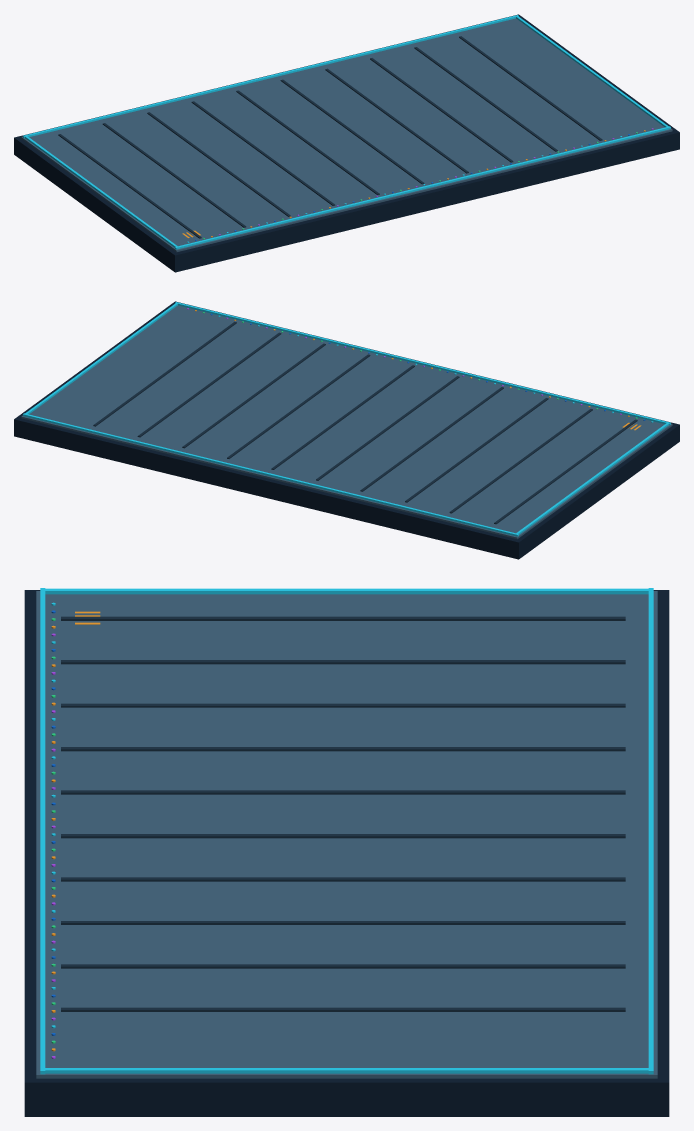
File: 00_L72_IndustrialAtomicDepositionBase.fbx
3 views of the same model, one above another, from view 1: azimuth 30°, elevation 25°; view 2: azimuth 150°, elevation 25°; view 3: azimuth 270°, elevation 25° (orthographic). The views are drawn at different scales.
Visible parts, largest first — view 1: IndustrialAtomicDepositionBase; view 2: IndustrialAtomicDepositionBase; view 3: IndustrialAtomicDepositionBase.
Part boxes in pixels (x1=…): IndustrialAtomicDepositionBase: x1=14, y1=14, x2=679, y2=272; IndustrialAtomicDepositionBase: x1=14, y1=301, x2=679, y2=559; IndustrialAtomicDepositionBase: x1=24, y1=588, x2=669, y2=1116.
Size of the model in its own units: 1610 by 76.05 by 890.
